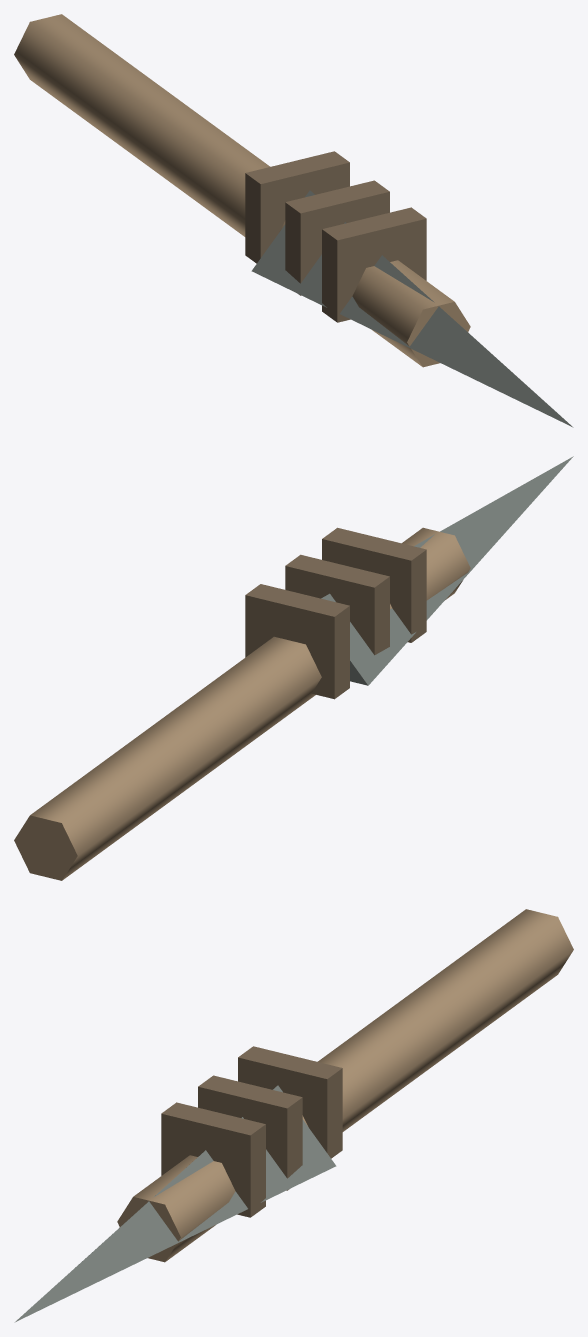
Rendered from spread-portable-forged-spike-willow-leather.fbx.
The picture shows the model from 3 angles, top to bottom: view 1: azimuth 30°, elevation 25°; view 2: azimuth 150°, elevation 25°; view 3: azimuth 330°, elevation 25°; orthographic projection.
Parts seen in each view (by area): view 1: spread-portable-forged-spike-willow-leather__Geometry; view 2: spread-portable-forged-spike-willow-leather__Geometry; view 3: spread-portable-forged-spike-willow-leather__Geometry.
Boxes of the visible parts, x1,y1,x2,y2 form: spread-portable-forged-spike-willow-leather__Geometry: [14, 14, 573, 427]; spread-portable-forged-spike-willow-leather__Geometry: [14, 456, 573, 880]; spread-portable-forged-spike-willow-leather__Geometry: [14, 909, 573, 1322].
Size of the model in its own units: 0.11 by 0.083 by 0.86.
